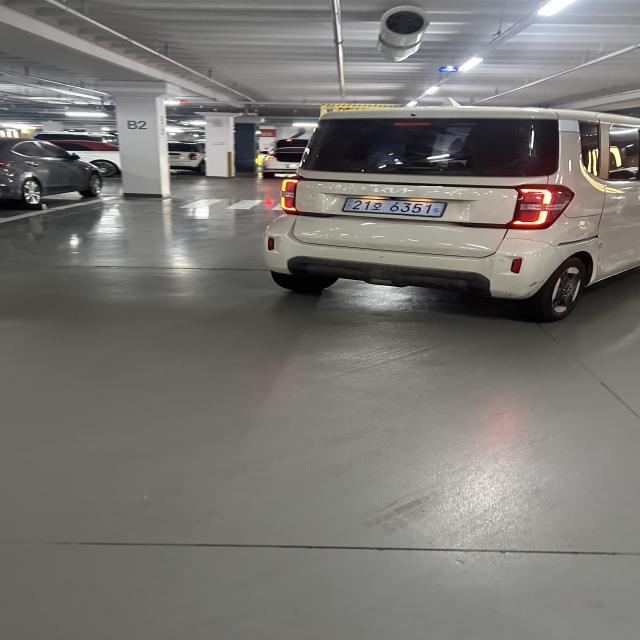car: (322, 191, 463, 223)
carev: (429, 198, 446, 219), (339, 196, 354, 215)
